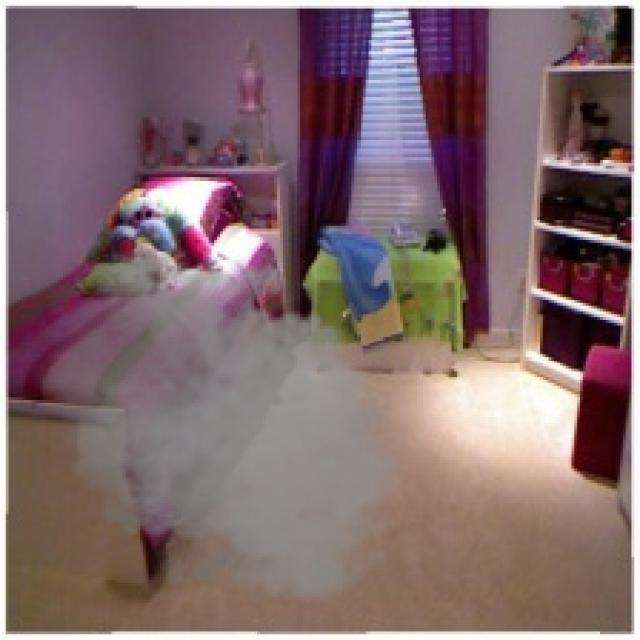Smoke: (19, 237, 414, 609)
